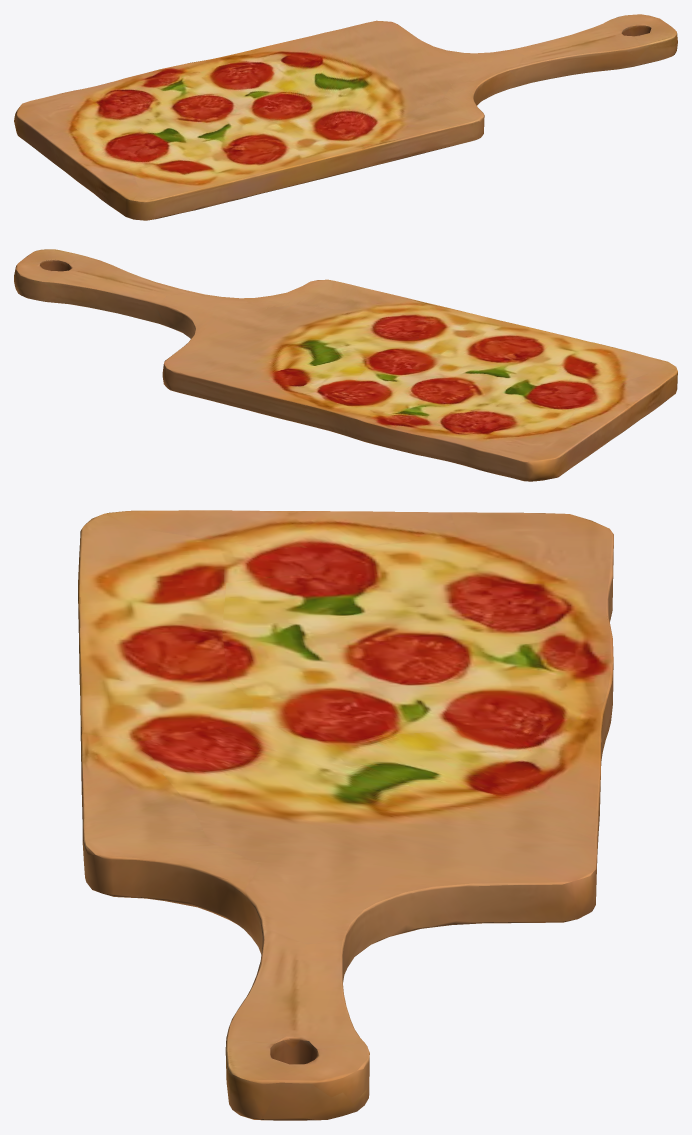
The model's file is pizzaPeelClean.glb.
3 views of the same model, one above another, from view 1: azimuth 30°, elevation 25°; view 2: azimuth 150°, elevation 25°; view 3: azimuth 270°, elevation 25° (orthographic). The views are drawn at different scales.
Visible parts, largest first — view 1: model; view 2: model; view 3: model.
Part boxes in pixels (bbox=[...]): model: bbox=[14, 14, 677, 220]; model: bbox=[14, 249, 677, 481]; model: bbox=[78, 510, 613, 1120].
Bounding box in the file's own units: 1.9 × 0.0638 × 0.7531.
1 material, 1 textured.
